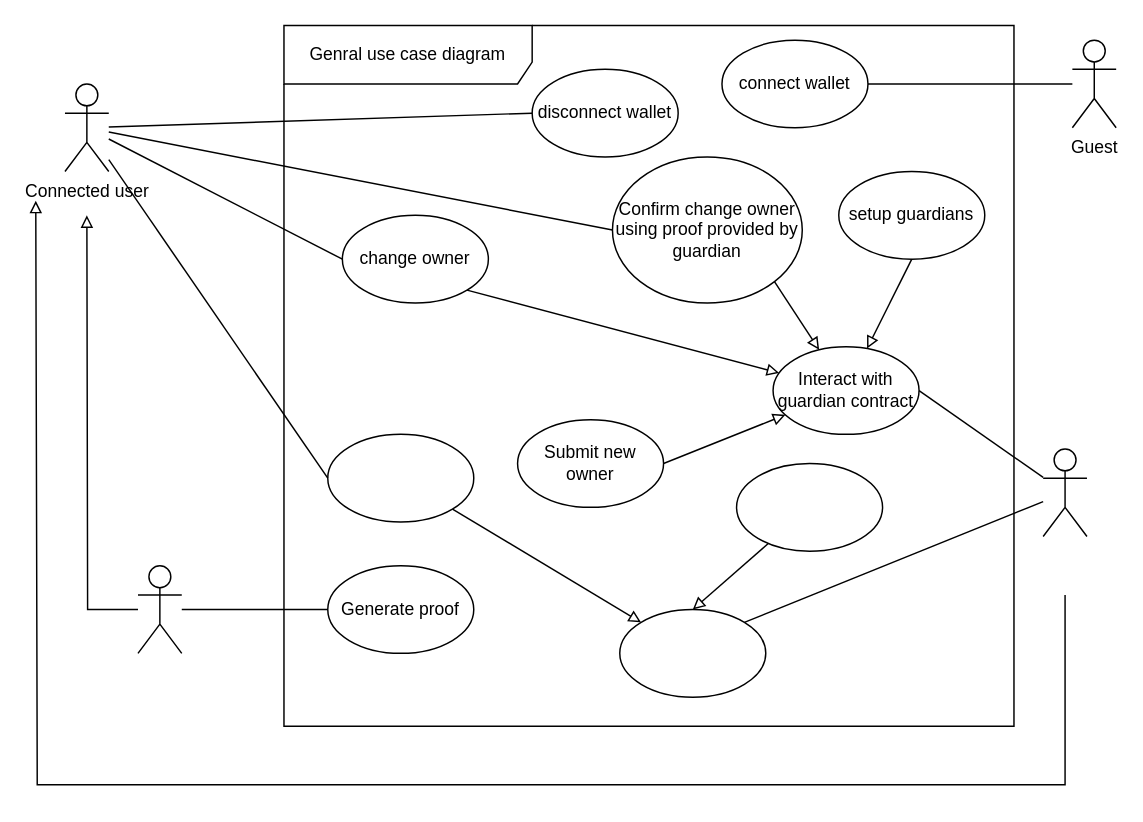
This 1143x822 diagram has some shape labels left out. Each missing label, with the centre of its shape:
Guardian: point 159,608
Owner: point 1064,492
Send assets: point 692,652
Send assets using account abstraction: point 809,506
Send assets using private key: point 400,477
